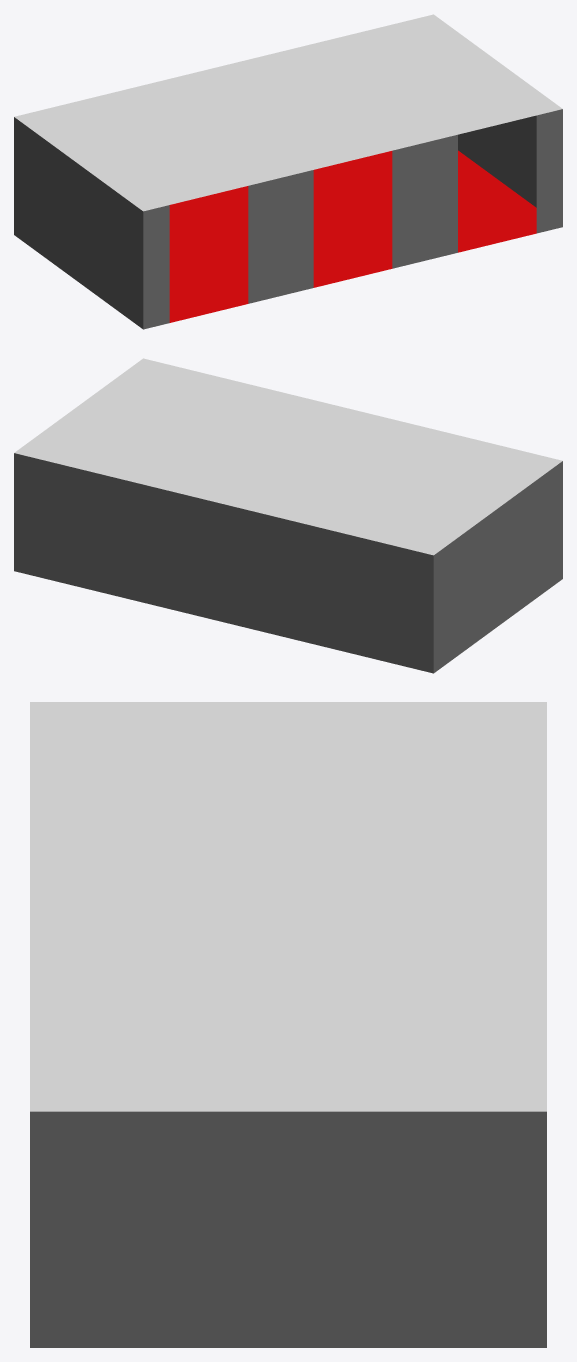
The model's file is bedroom.fbx.
3 views of the same model, one above another, from view 1: azimuth 30°, elevation 25°; view 2: azimuth 150°, elevation 25°; view 3: azimuth 270°, elevation 25° (orthographic). The views are drawn at different scales.
Parts seen in each view (by area): view 1: Bedroom; view 2: Bedroom; view 3: Bedroom.
Part boxes in pixels (x1,y1,x2,y2): Bedroom: (14,14,562,329); Bedroom: (14,358,562,673); Bedroom: (30,702,546,1347).
Bounding box in the file's own units: 1584 × 426 × 845.
